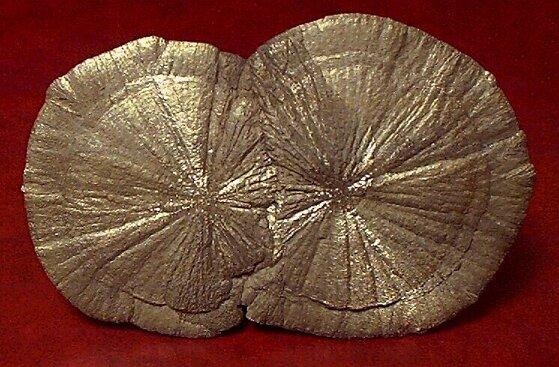pyrite: (21, 13, 537, 340)
